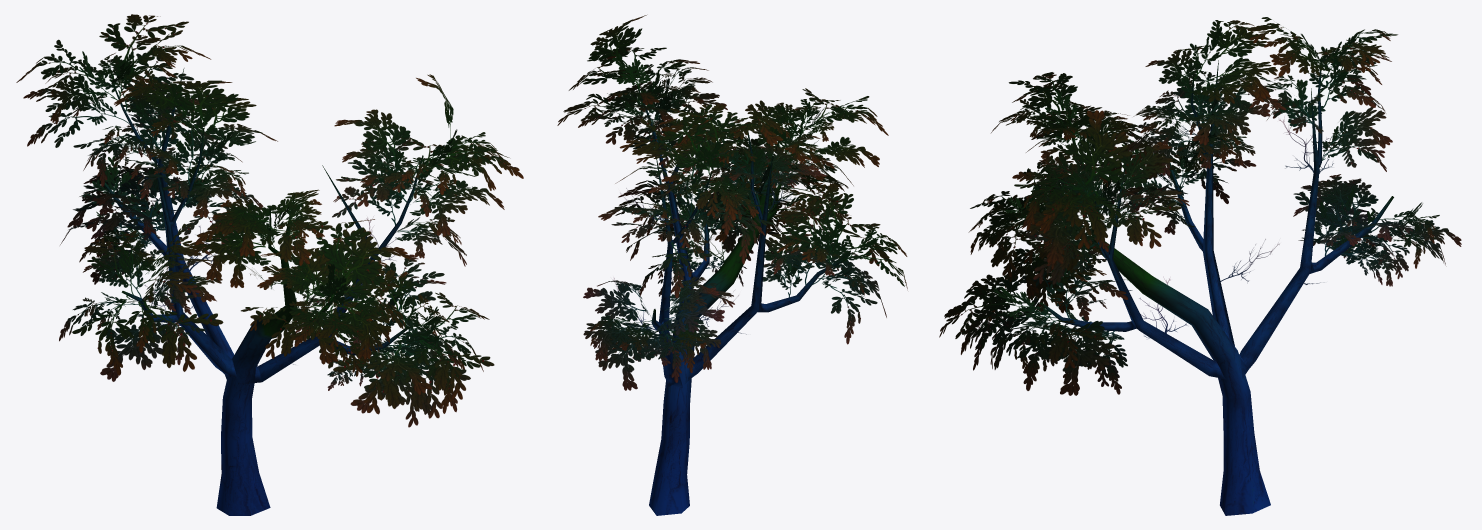
File: Mate_C.glb
3 views of the same model, side by side, from view 1: azimuth 30°, elevation 25°; view 2: azimuth 150°, elevation 25°; view 3: azimuth 270°, elevation 25° (orthographic). The views are drawn at different scales.
Visible parts, largest first — view 1: YerbaMateC_LOD0; view 2: YerbaMateC_LOD0; view 3: YerbaMateC_LOD0.
Boxes of the visible parts, x1,y1,x2,y2 form: YerbaMateC_LOD0: [16, 14, 523, 515]; YerbaMateC_LOD0: [557, 15, 907, 515]; YerbaMateC_LOD0: [939, 17, 1461, 515].
Size of what is drawn, in the model's own units: 3.94 by 4.39 by 4.63.
Materials: 2 (2 with a texture image).
